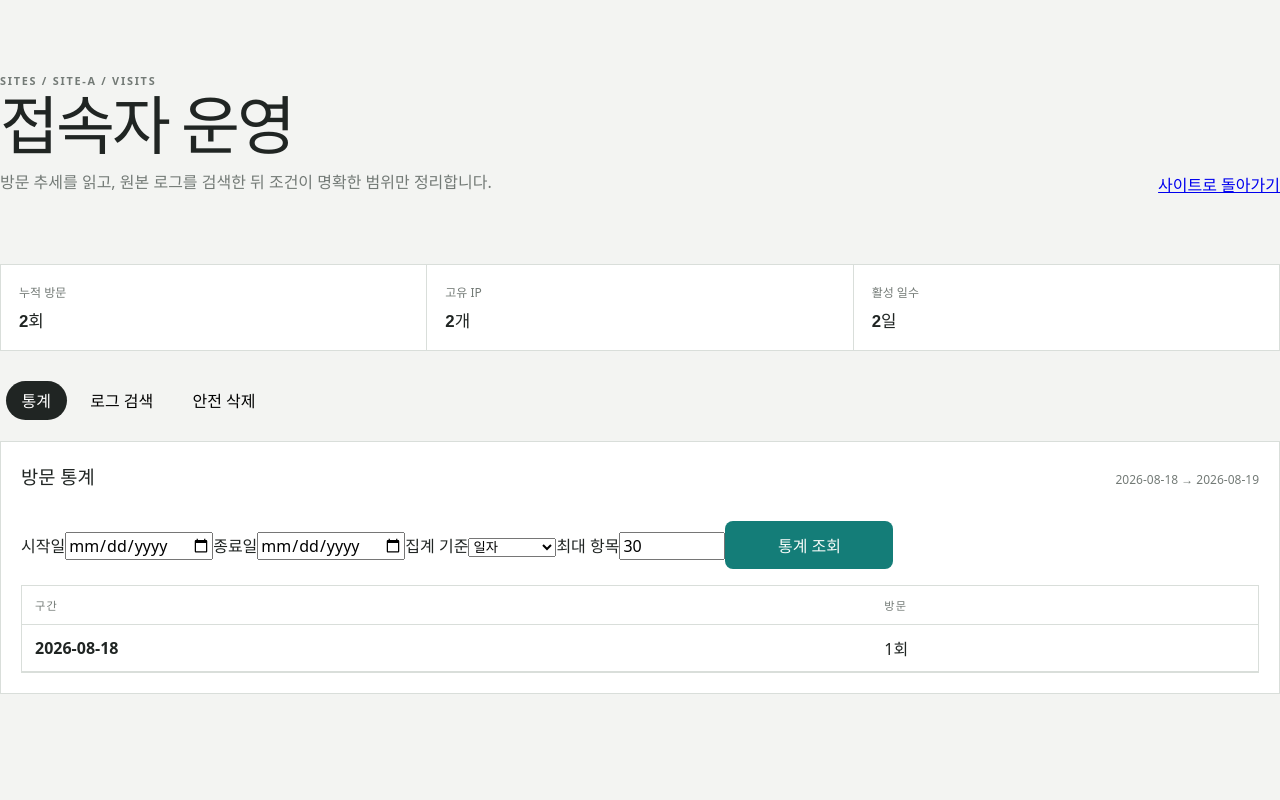
Test: AdminVisitsPage › loads site-scoped stats and exposes the reused log search workspace
Check: the text "2026-08-18" is shown, box [35, 637, 118, 659]
What coordinates should you click on to do the following:
click the button "로그 검색"
I would click on:
 (122, 400)
Its box is [74, 381, 169, 420].
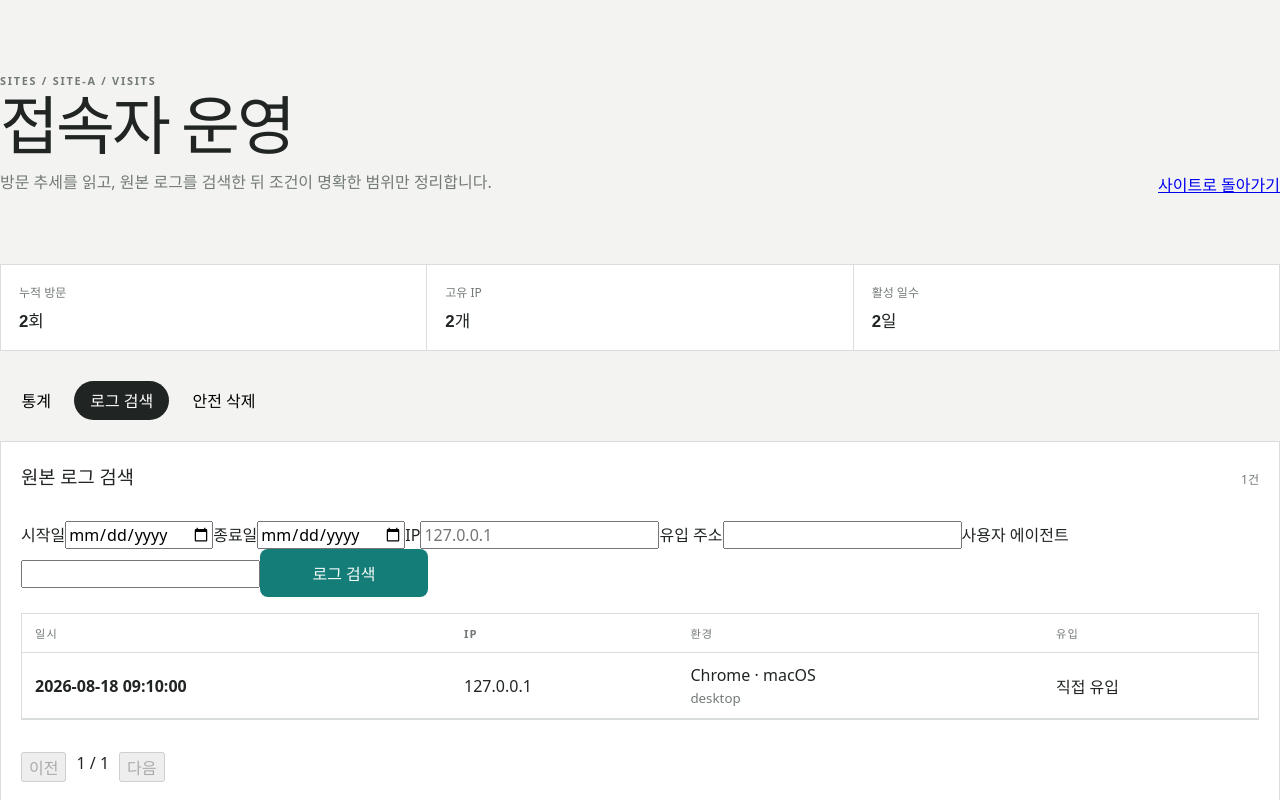
Check: the text "127.0.0.1" is shown, box [451, 653, 677, 719]
